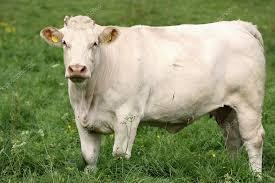cow: (42, 15, 266, 175)
